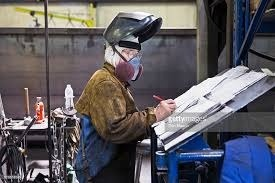helmet: (104, 11, 163, 46)
person with partial safety: (79, 12, 159, 182)
